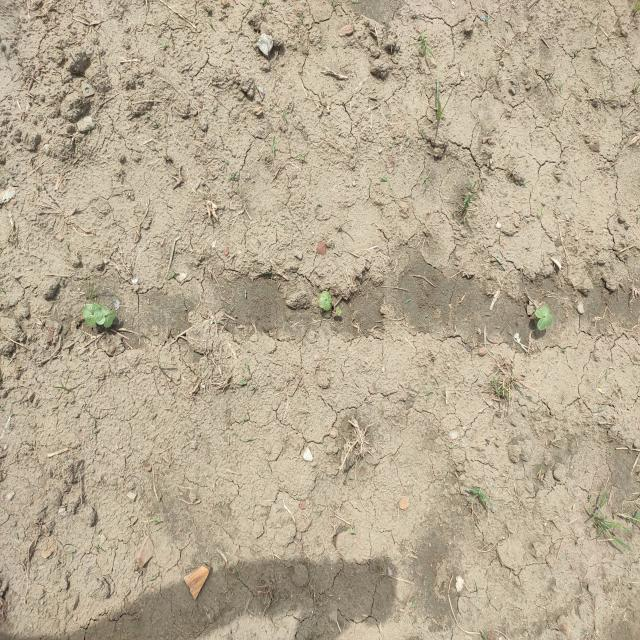seedling_s2: (83, 304, 95, 328), (96, 306, 109, 326), (537, 314, 553, 330), (91, 303, 102, 321), (104, 311, 116, 327), (535, 306, 550, 318), (318, 297, 331, 310), (321, 291, 332, 303)
